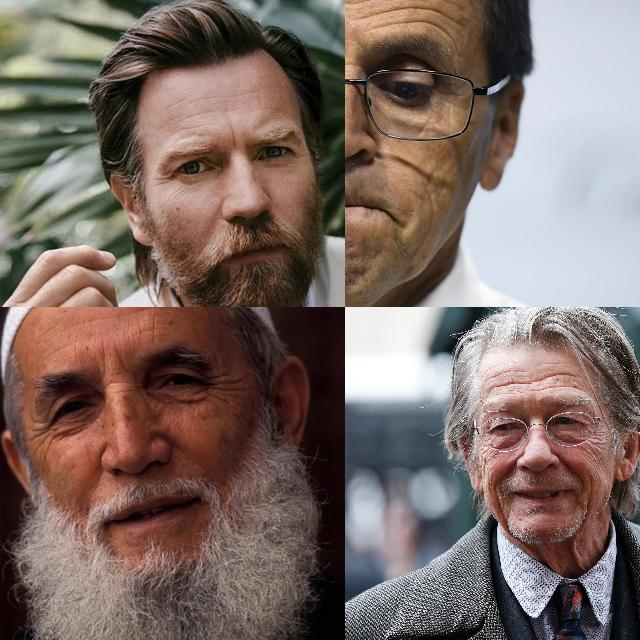crows_feet: (27, 418, 57, 452), (210, 371, 238, 405), (154, 166, 176, 188)
forehead: (396, 0, 462, 33), (345, 0, 388, 27), (182, 100, 218, 126), (138, 313, 166, 342), (550, 367, 578, 393), (486, 366, 509, 394), (210, 88, 250, 104), (519, 370, 545, 388), (176, 120, 208, 134)
frown_line: (98, 342, 134, 386), (227, 123, 243, 153)
gummy_smile: (561, 452, 583, 478), (499, 456, 519, 482)
masseter: (587, 434, 609, 462), (582, 489, 596, 528), (478, 440, 494, 474), (492, 488, 510, 518)
